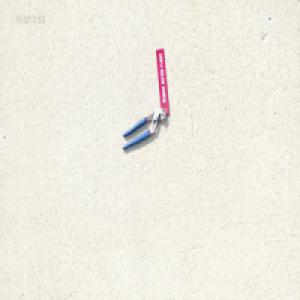Label: (154, 48, 169, 115)
Pliers: (122, 107, 166, 151)
